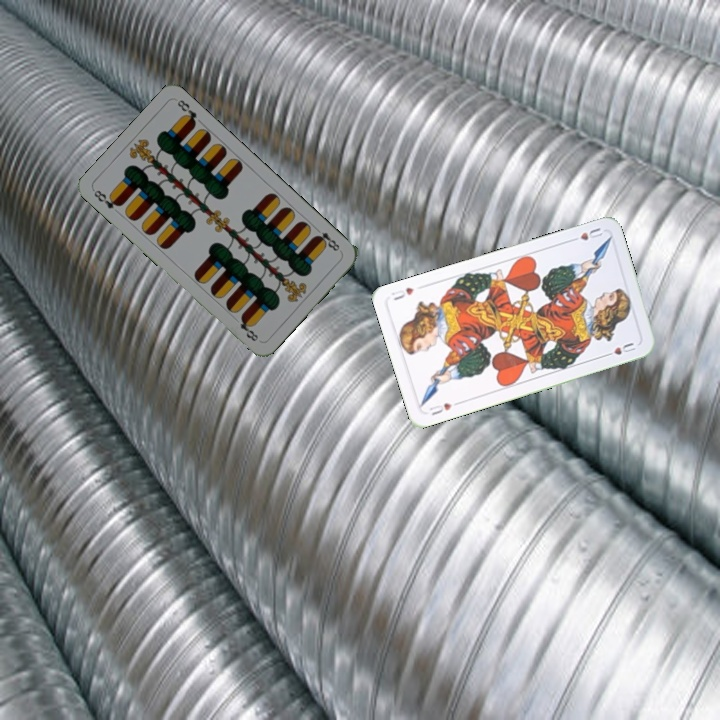E8: (310, 223, 342, 254), (90, 186, 124, 211)
HU: (566, 223, 605, 244), (425, 398, 462, 418)
